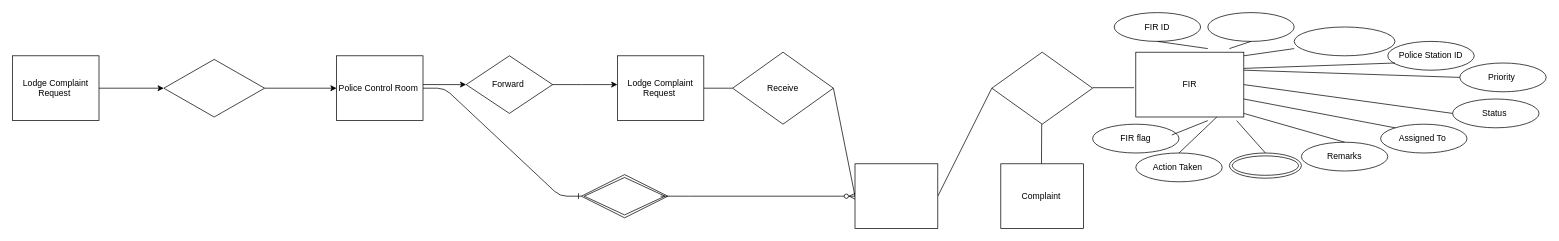
The diagram is 1559 pixels wide and 241 high, and some of its shapes have lost their labels. The centre of each missing label's shape, as x and y in pixels:
"Accused" goes at point 1265,165.
"Complaint Reference Id" goes at point 1344,41.
"Files" goes at point 1042,87.
"FIR Date" goes at point 1250,26.
"has" goes at point 624,196.
"Police Station" goes at point 896,196.
"Request" goes at point 214,88.
